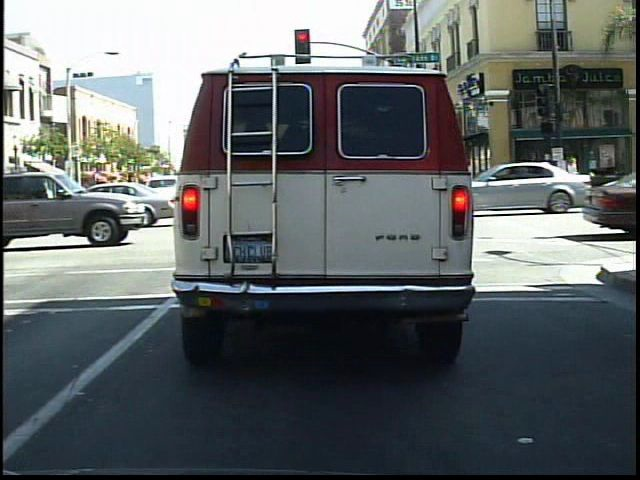person: (539, 151, 562, 213), (513, 156, 533, 202)
